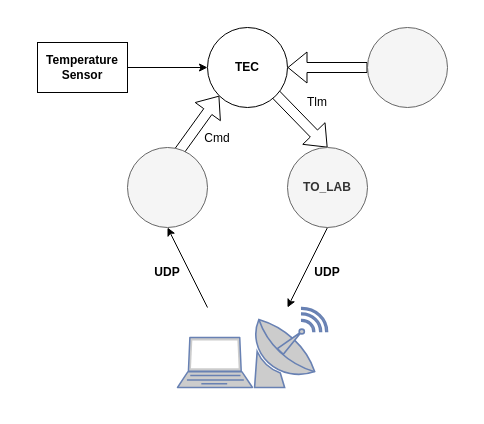
This 484x424 diagram has some shape labels left out. The shapes that lost their labels are listed below. From the top down, each one's box as (x1, y1, x2, y2) in pixels, then its label:
(366, 26, 448, 108): SCH
(126, 146, 208, 228): CI_LAB
